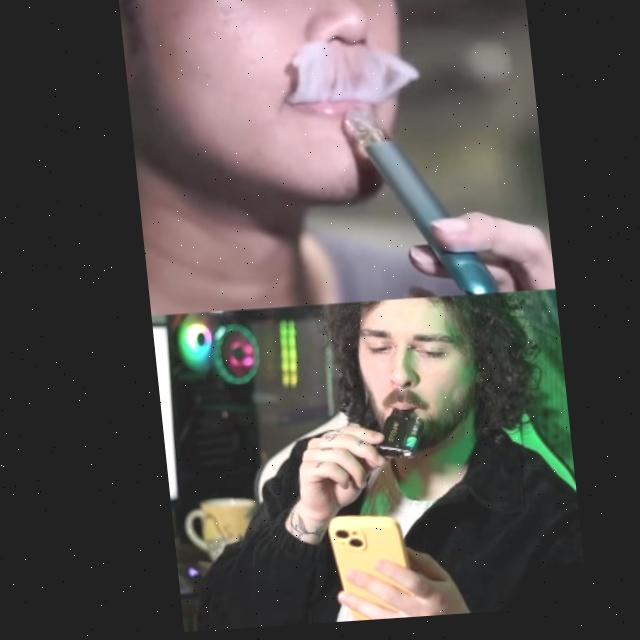vape: (339, 106, 494, 306), (361, 411, 418, 468)
